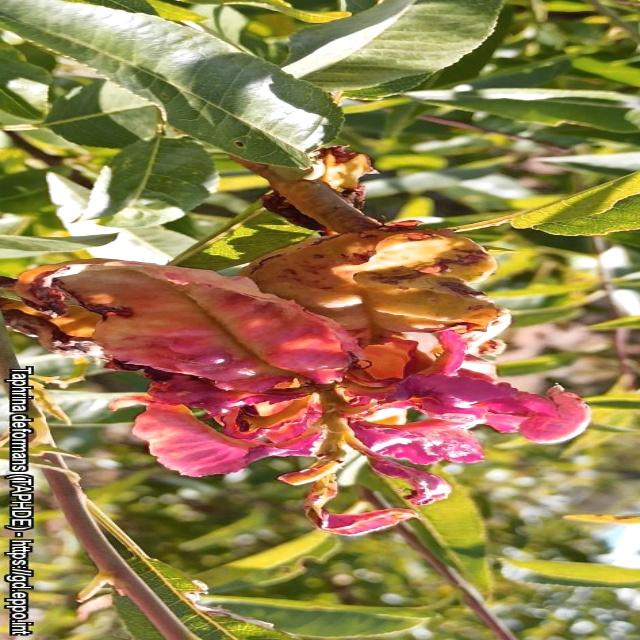leaf_curl: (66, 228, 374, 489), (300, 277, 608, 538)
